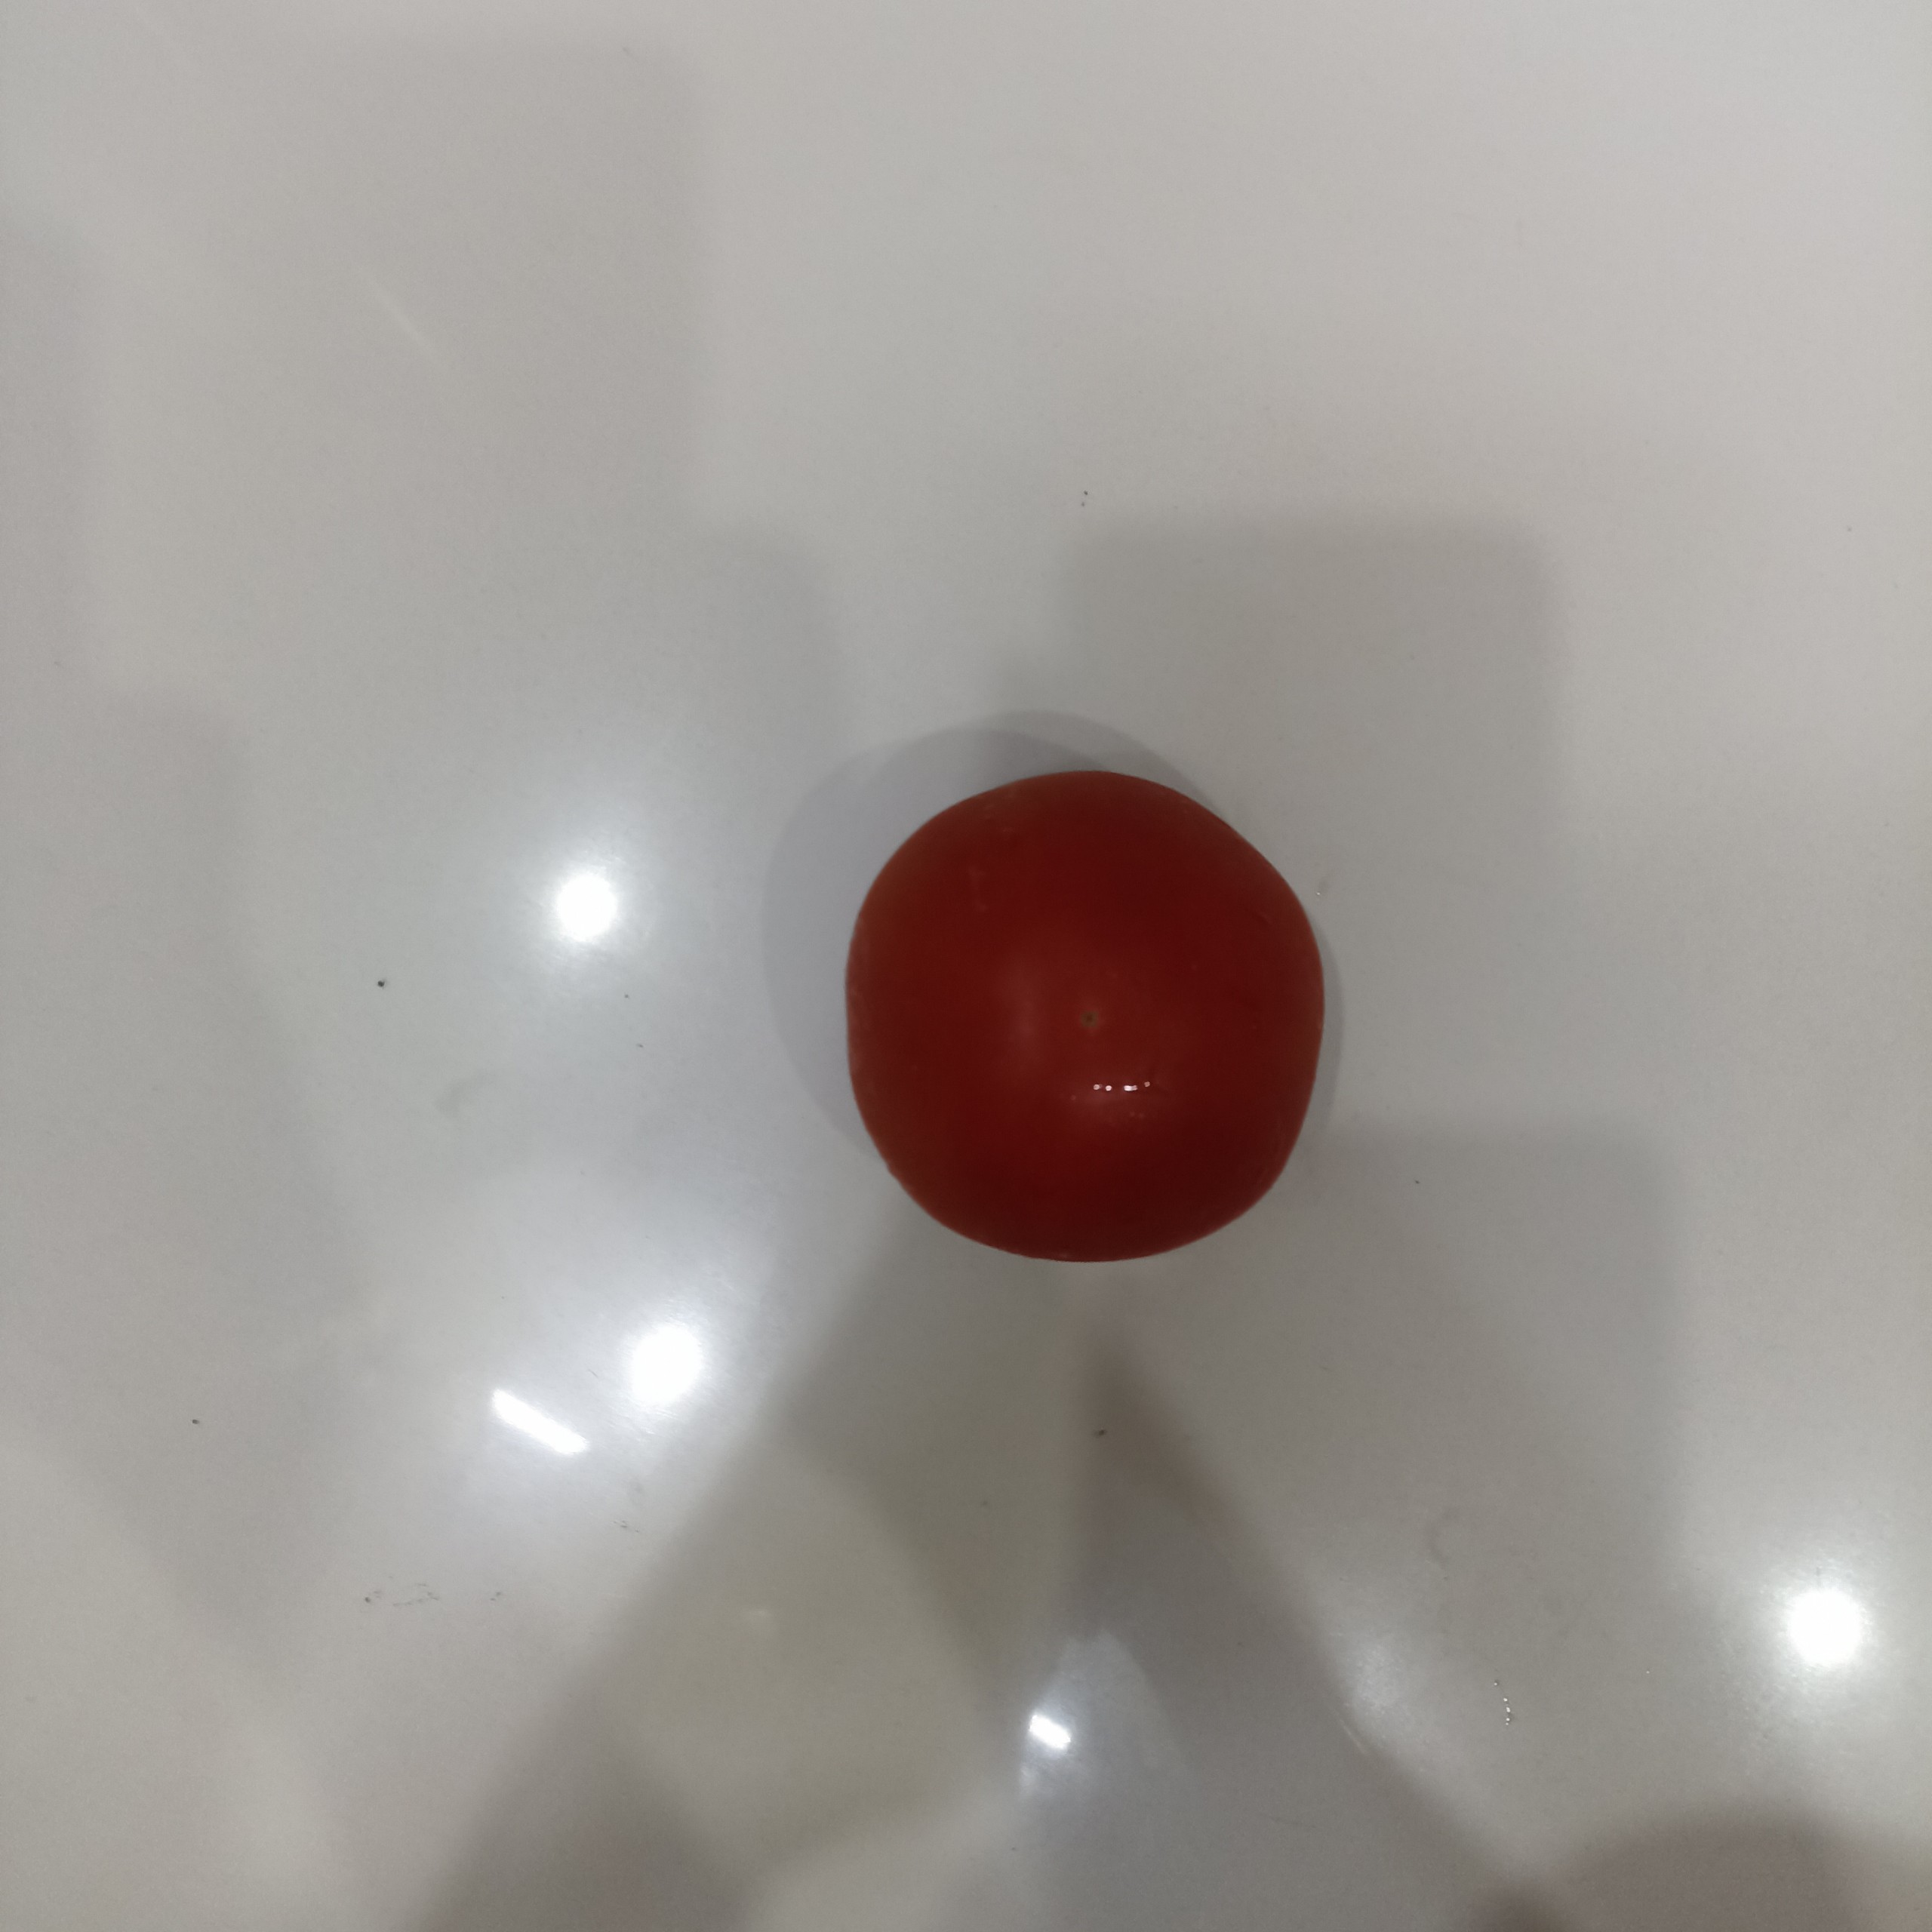Ca chua: (843, 767, 1327, 1266)
